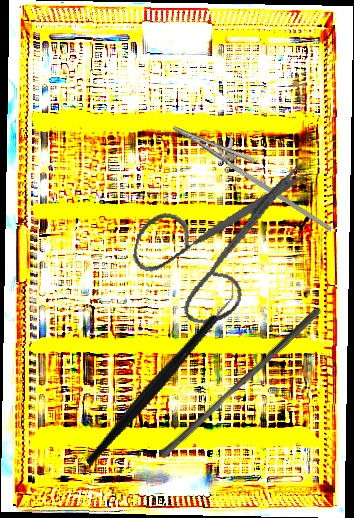Chopper: (42, 277, 279, 468)
Iris Scissors: (123, 134, 310, 338)
Needle Holder: (162, 112, 349, 232)
Pusher: (157, 299, 324, 466)
